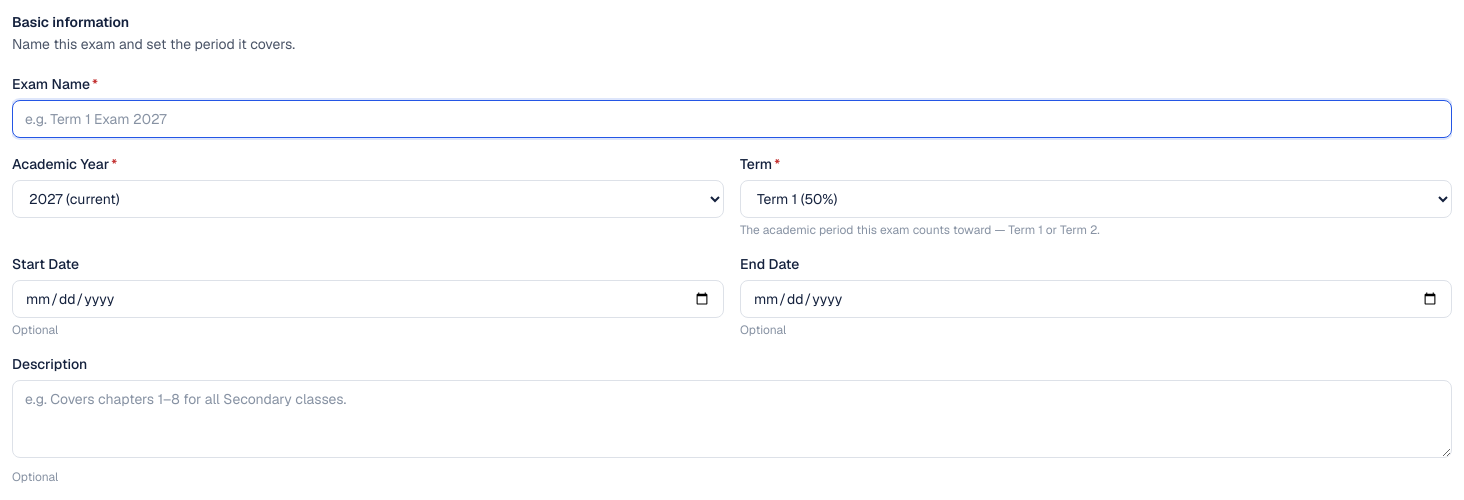
BasicInfoStep — Term selector › clears the chosen term when the academic year changes (the old year's term id isn't valid for the new one) and does NOT default to Term 1
The image size is (1464, 500).
Select "2028" in the dropdown labelled "Academic Year" at (368, 199), box left=12, top=180, right=724, bottom=218
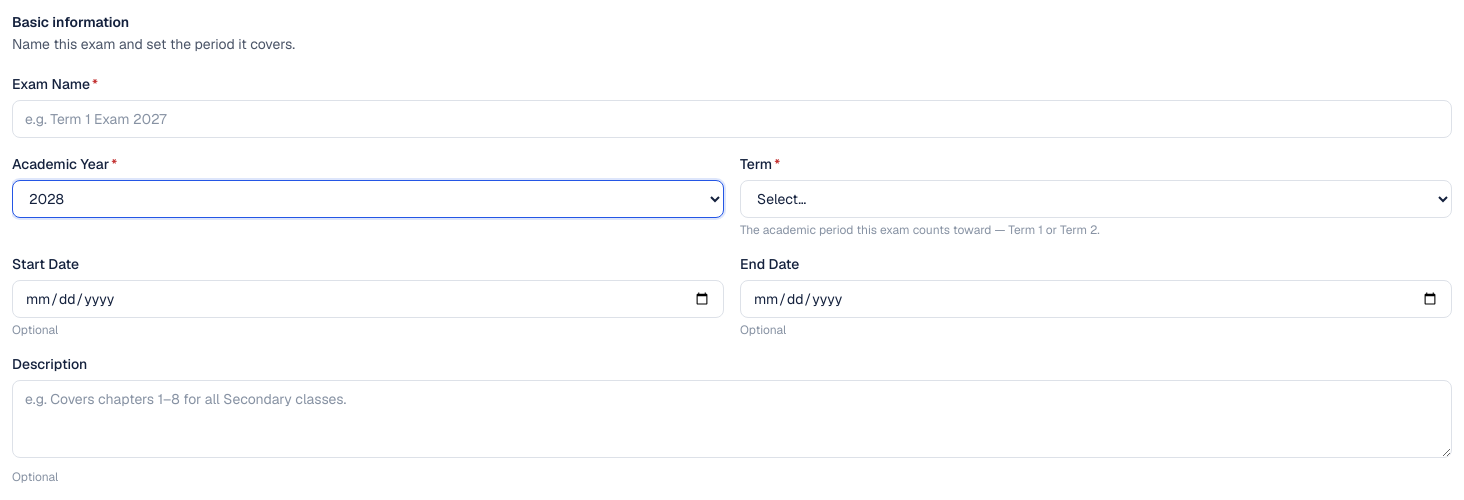
Check: the dropdown labelled "Term" shows "Select…", box left=740, top=180, right=1452, bottom=218
